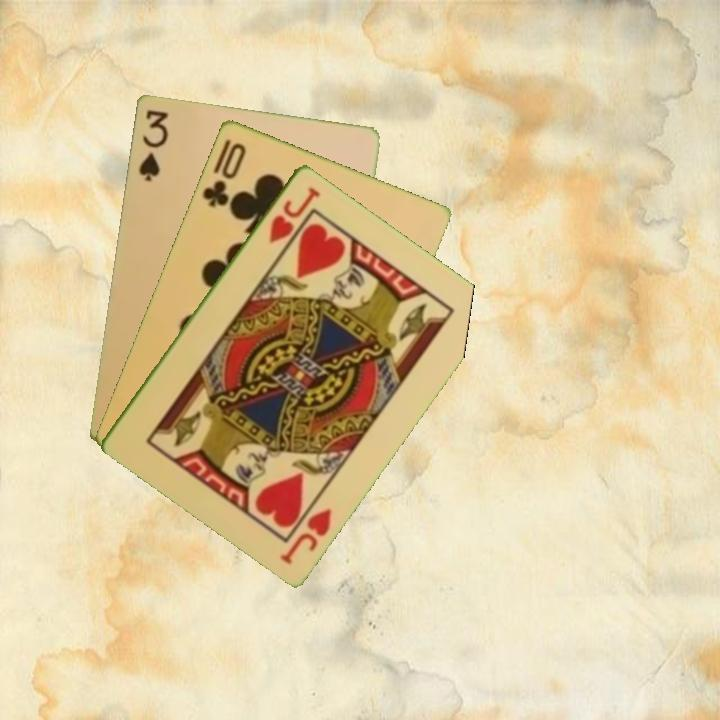10c: (198, 139, 249, 210)
3s: (135, 105, 171, 184)
Jh: (276, 503, 335, 567), (265, 182, 323, 246)
